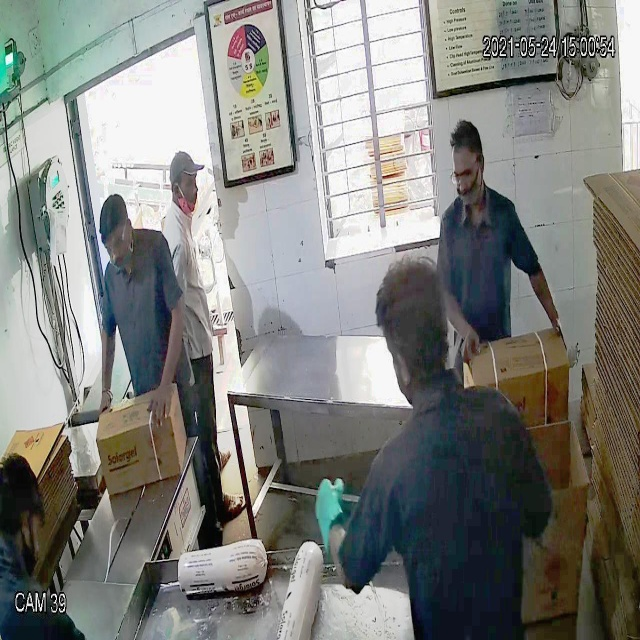Gafas: (97, 226, 129, 262), (448, 163, 483, 193)
